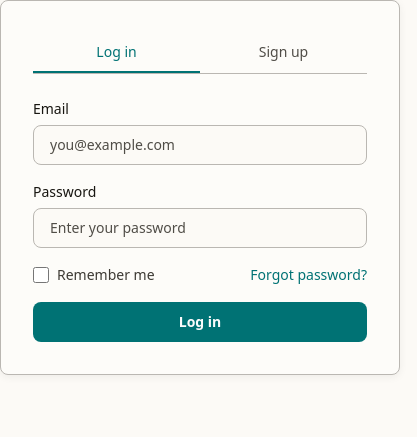
Test: LoginSignup › renders signup view
Step 1. Click the tab "Sign up" → (284, 53), box [200,33,367,73]
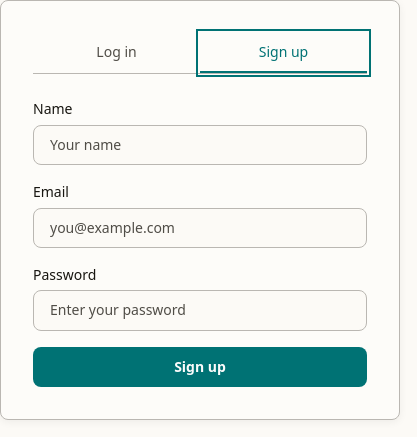
expect the field labelled "Email" is shown: met, box [33,208,367,248]
expect the form "Sign up" is shown: met, box [33,98,367,387]
expect the field labelled "Name" is shown: met, box [33,125,367,165]
